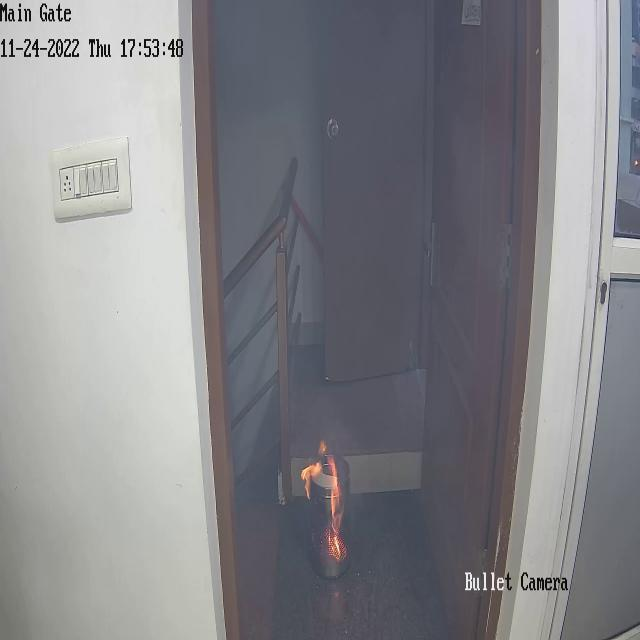fire: (303, 441, 349, 557)
smoke: (317, 10, 444, 135), (212, 7, 322, 150), (340, 114, 414, 254), (450, 121, 496, 243), (389, 311, 426, 399), (334, 392, 374, 458), (306, 396, 338, 428)
